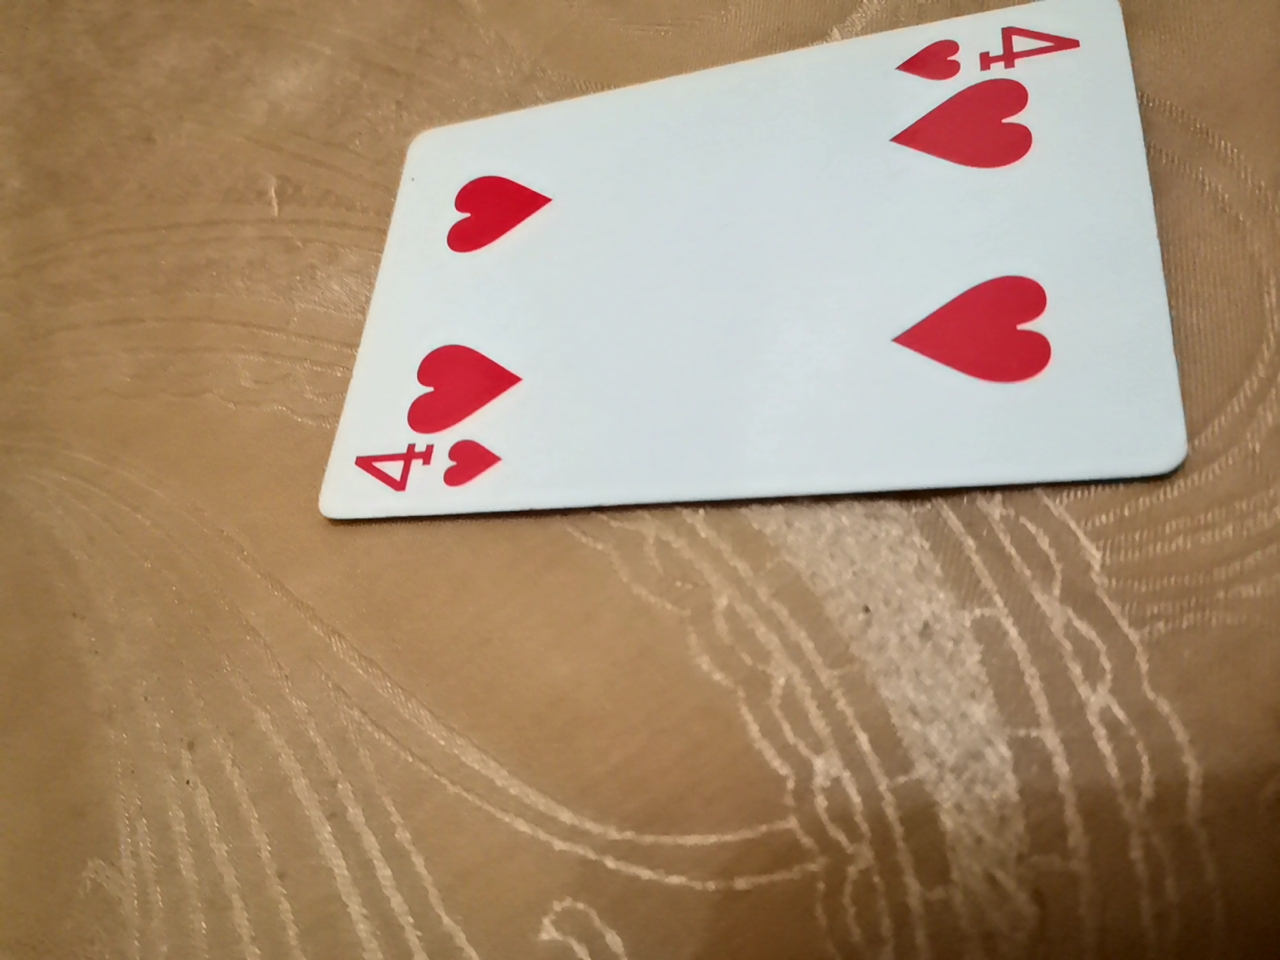hx 4: (337, 10, 1166, 532)
